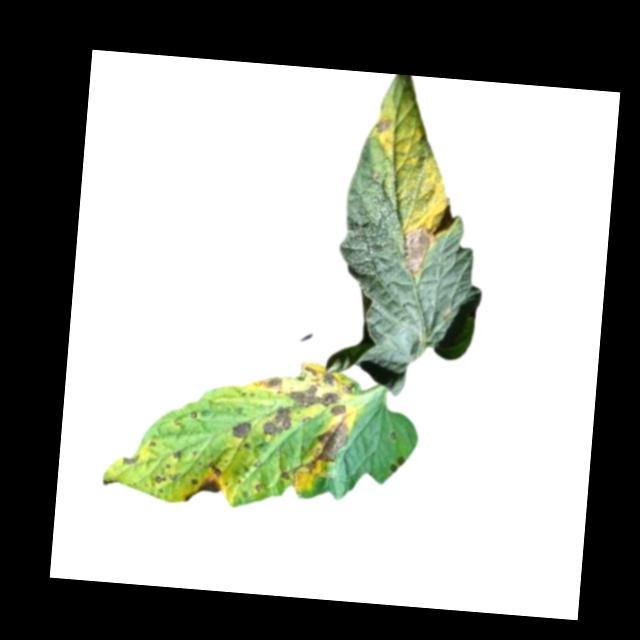Early_blight: (254, 357, 354, 419), (302, 416, 352, 478), (183, 460, 226, 505), (397, 227, 434, 276), (261, 408, 297, 440), (231, 419, 252, 442), (154, 473, 179, 489), (374, 117, 397, 134), (390, 456, 405, 475), (120, 454, 139, 467), (171, 449, 183, 463), (281, 471, 291, 482)
